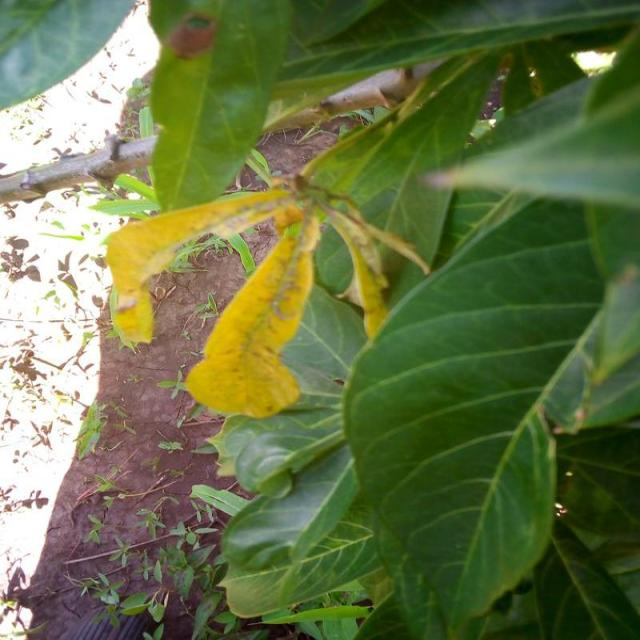cassava leaf: (104, 1, 638, 637), (339, 184, 637, 637), (183, 223, 315, 419)
